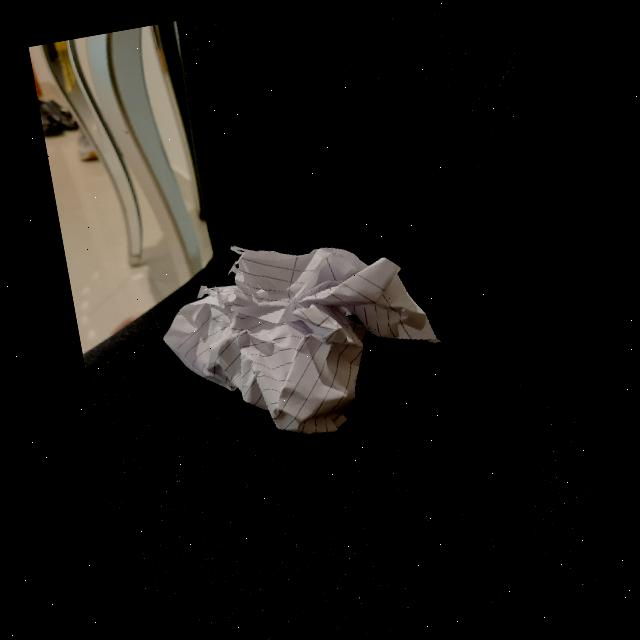trash: (156, 220, 447, 462)
